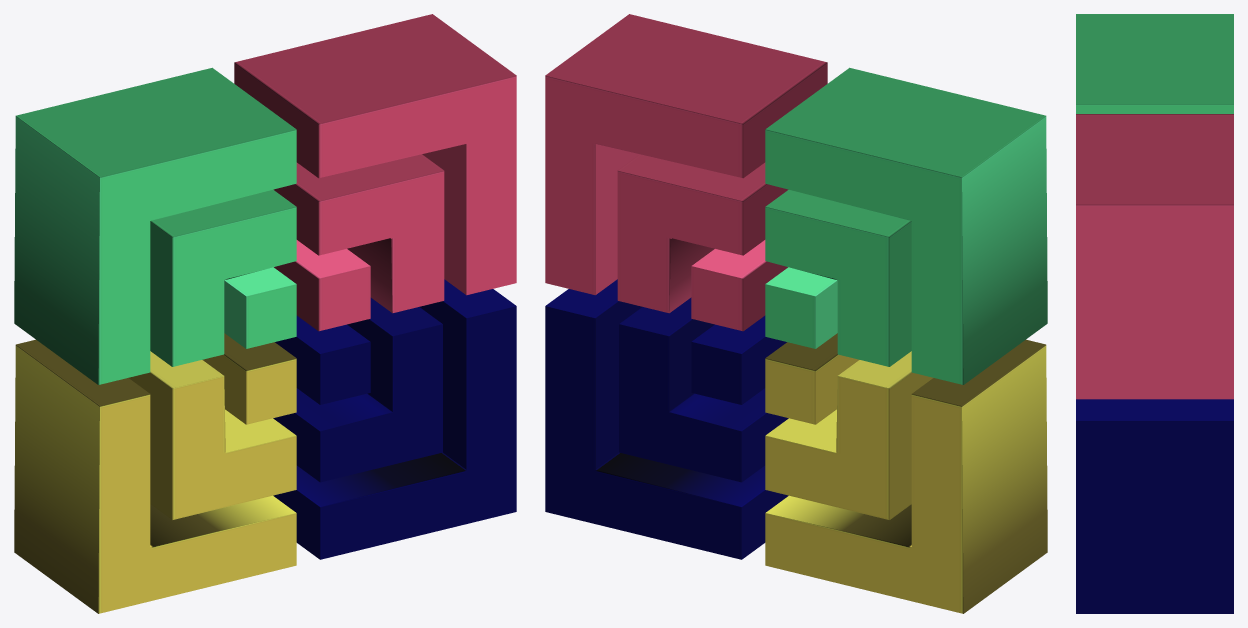
The model's file is bgl.glb.
The picture shows the model from 3 angles, left to right: view 1: azimuth 30°, elevation 25°; view 2: azimuth 150°, elevation 25°; view 3: azimuth 270°, elevation 25°; orthographic projection. The views are drawn at different scales.
Parts seen in each view (by area): view 1: Object_26, Object_14, Object_24, Object_4, Object_6, Object_20, Object_12, Object_22, Object_16, Object_10, Object_8, Object_18; view 2: Object_26, Object_14, Object_24, Object_4, Object_6, Object_20, Object_12, Object_22, Object_16, Object_10, Object_8, Object_18; view 3: Object_24, Object_4, Object_26.
Part boxes in pixels (left/top/right/bottom): Object_26: left=14, top=67, right=296, bottom=384; Object_14: left=14, top=339, right=296, bottom=613; Object_24: left=234, top=14, right=516, bottom=295; Object_4: left=273, top=279, right=516, bottom=559; Object_6: left=273, top=297, right=442, bottom=482; Object_20: left=273, top=154, right=444, bottom=313; Object_12: left=128, top=351, right=296, bottom=519; Object_22: left=150, top=190, right=296, bottom=366; Object_16: left=274, top=240, right=370, bottom=331; Object_10: left=202, top=333, right=296, bottom=424; Object_8: left=275, top=315, right=370, bottom=404; Object_18: left=224, top=267, right=296, bottom=348; Object_26: left=765, top=67, right=1047, bottom=384; Object_14: left=765, top=339, right=1047, bottom=613; Object_24: left=545, top=14, right=827, bottom=295; Object_4: left=545, top=279, right=788, bottom=559; Object_6: left=619, top=297, right=788, bottom=482; Object_20: left=617, top=154, right=788, bottom=313; Object_12: left=765, top=351, right=933, bottom=519; Object_22: left=765, top=190, right=911, bottom=366; Object_16: left=691, top=240, right=787, bottom=331; Object_10: left=765, top=333, right=859, bottom=424; Object_8: left=691, top=315, right=786, bottom=404; Object_18: left=765, top=267, right=837, bottom=348; Object_24: left=1076, top=114, right=1233, bottom=399; Object_4: left=1076, top=399, right=1233, bottom=613; Object_26: left=1076, top=14, right=1233, bottom=113.
Size of the model in its own units: 67.56 by 67.31 by 23.55.
12 materials, 12 textured.
